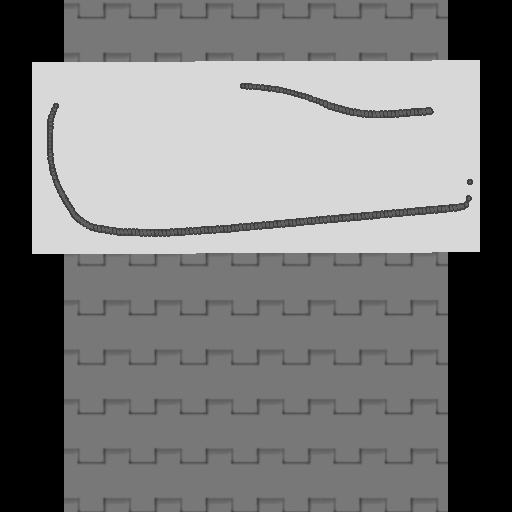Defect: (53, 78, 239, 106)
